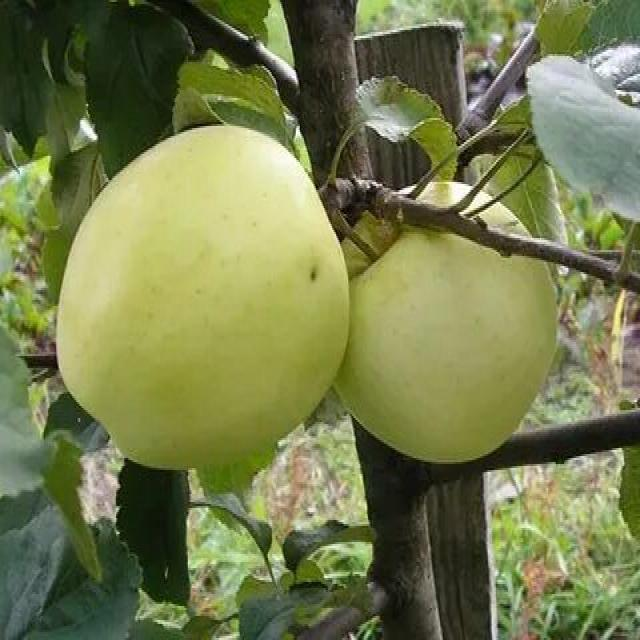Fresh Apple: (55, 132, 367, 486), (335, 240, 568, 460)
